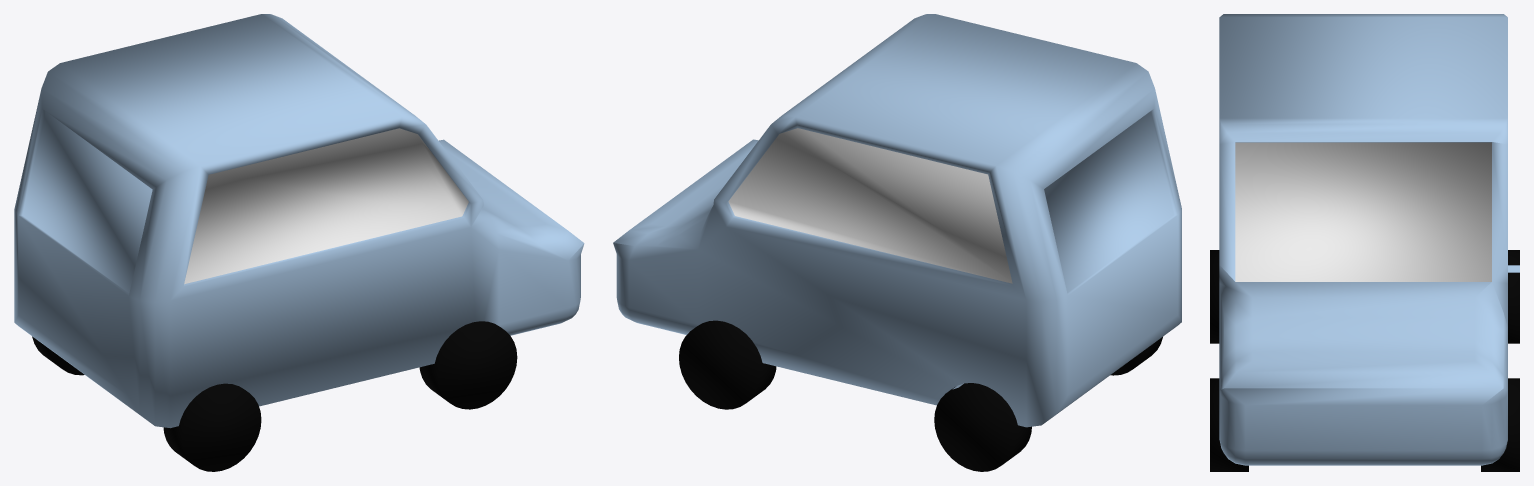
The model's file is Car.fbx.
3 views of the same model, side by side, from view 1: azimuth 30°, elevation 25°; view 2: azimuth 150°, elevation 25°; view 3: azimuth 270°, elevation 25° (orthographic). The views are drawn at different scales.
Parts seen in each view (by area): view 1: Cube; view 2: Cube; view 3: Cube.
Part boxes in pixels (x1,y1,x2,y2): Cube: (14, 14, 584, 471); Cube: (613, 14, 1181, 471); Cube: (1210, 14, 1519, 471).
Bounding box in the file's own units: 96.13 × 62.86 × 56.3.
